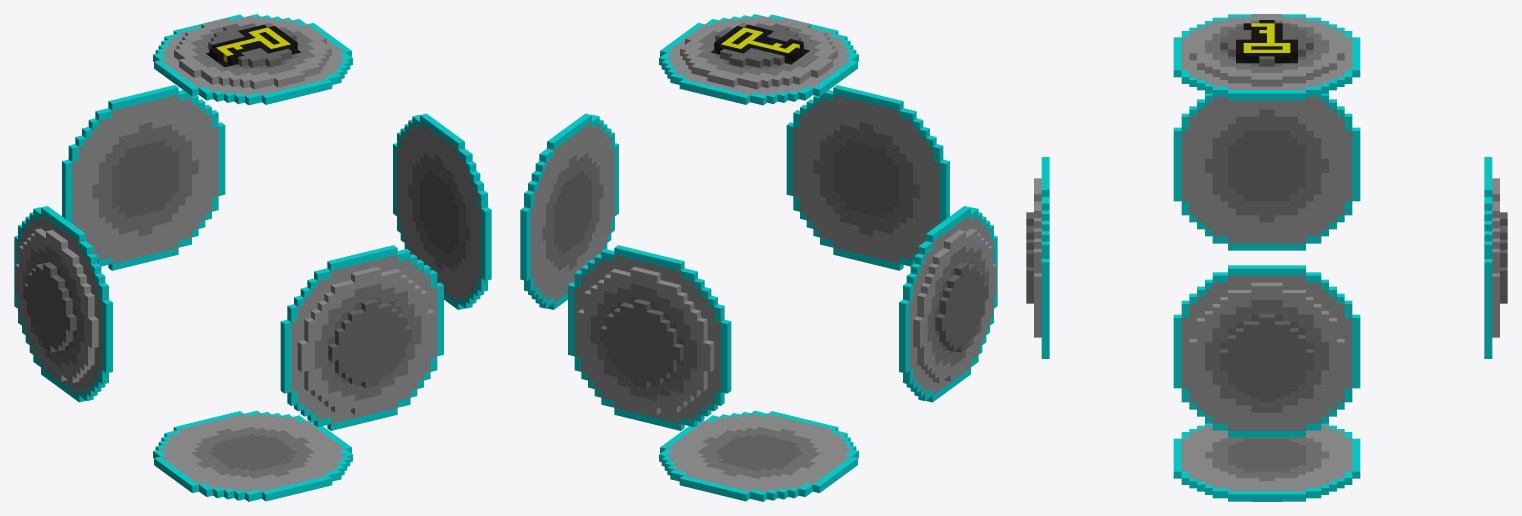
File: cyndrive_ships_silo_door.fbx
3 views of the same model, side by side, from view 1: azimuth 30°, elevation 25°; view 2: azimuth 150°, elevation 25°; view 3: azimuth 270°, elevation 25° (orthographic).
Visible parts, largest first — view 1: model_1; view 2: model_1; view 3: model_1.
Part boxes in pixels (x1=…): model_1: x1=14, y1=14, x2=491, y2=501; model_1: x1=520, y1=14, x2=997, y2=501; model_1: x1=1026, y1=14, x2=1507, y2=501.
Size of the model in its own units: 620 by 620 by 620.
